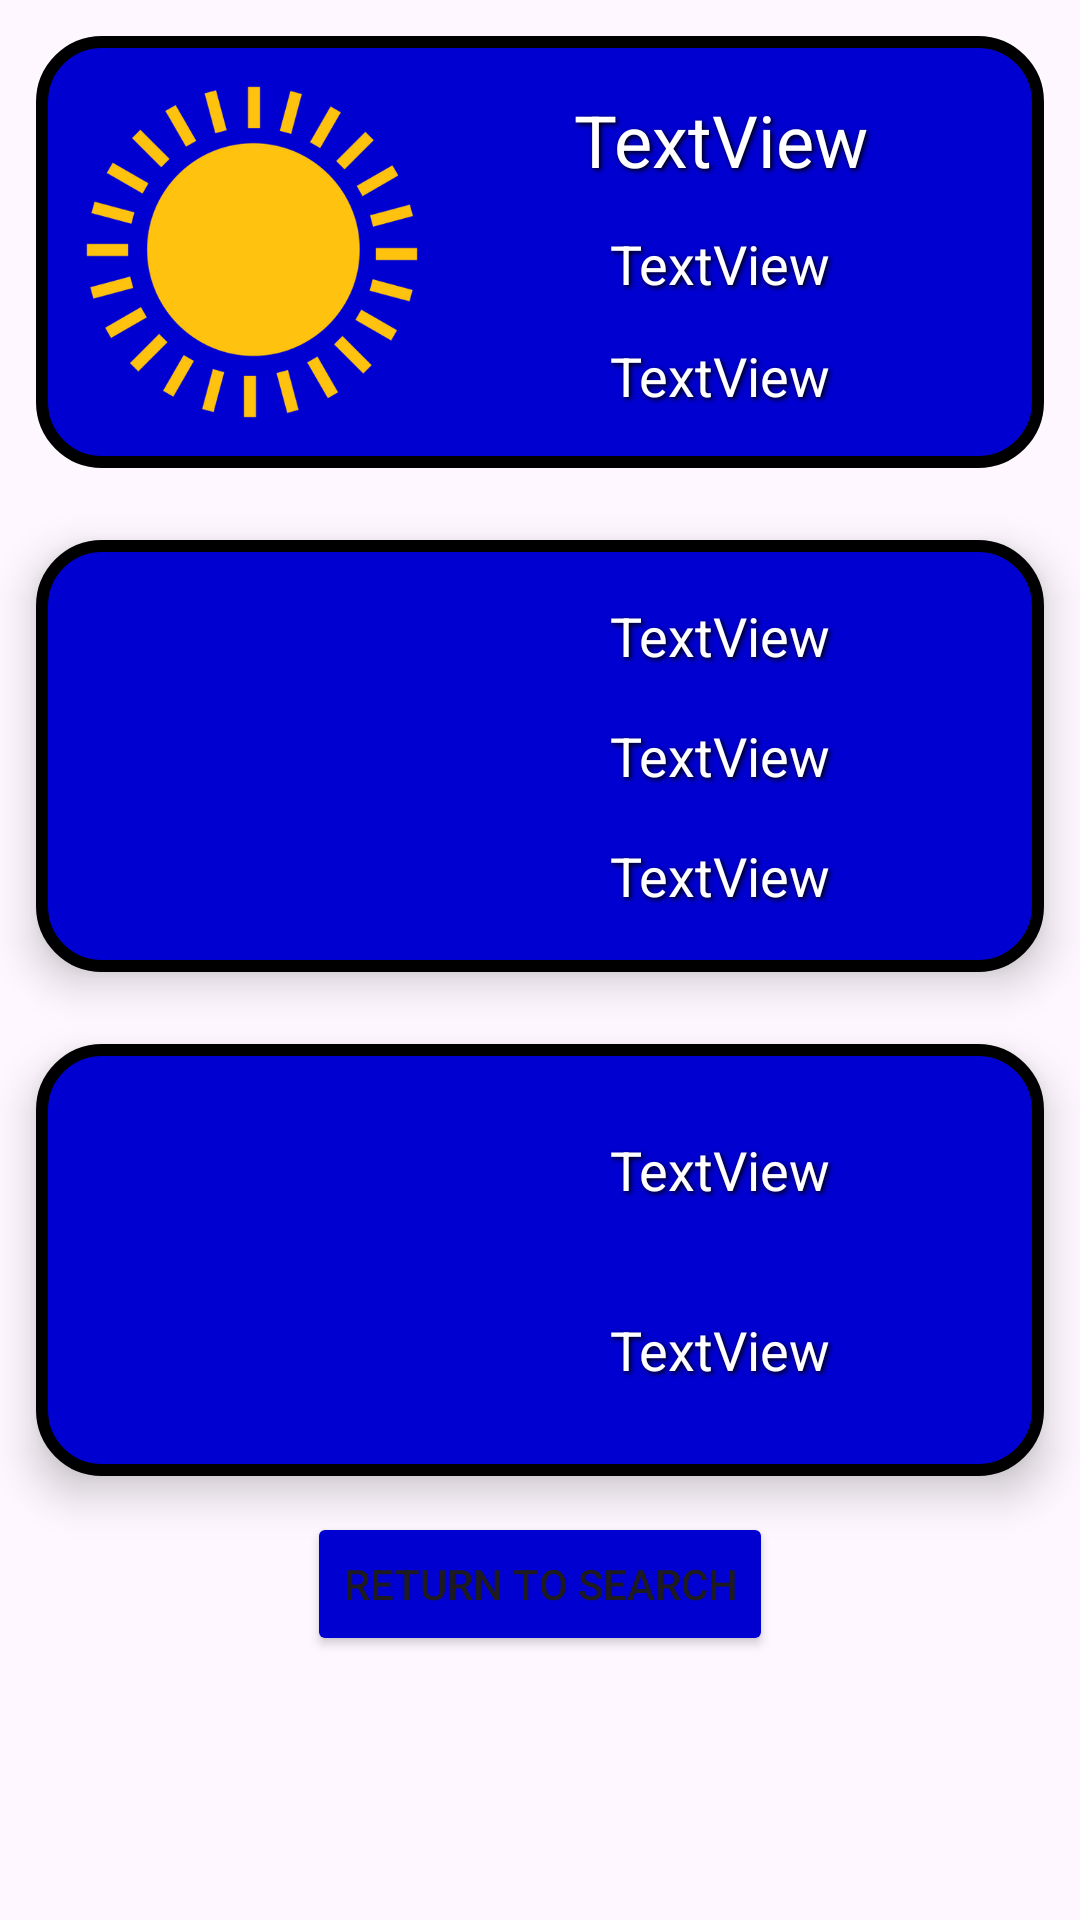

Where to tap for icons on this 1080w x 1920h app screen, as [x,y]:
sun: [252,252]
